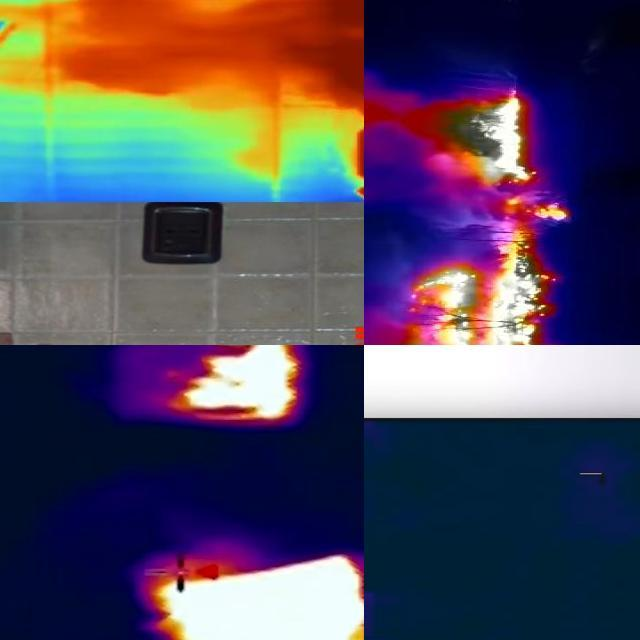fire: (147, 557, 365, 640), (408, 251, 562, 346), (158, 346, 308, 424), (298, 1, 365, 105), (484, 87, 537, 185), (486, 197, 576, 225)
